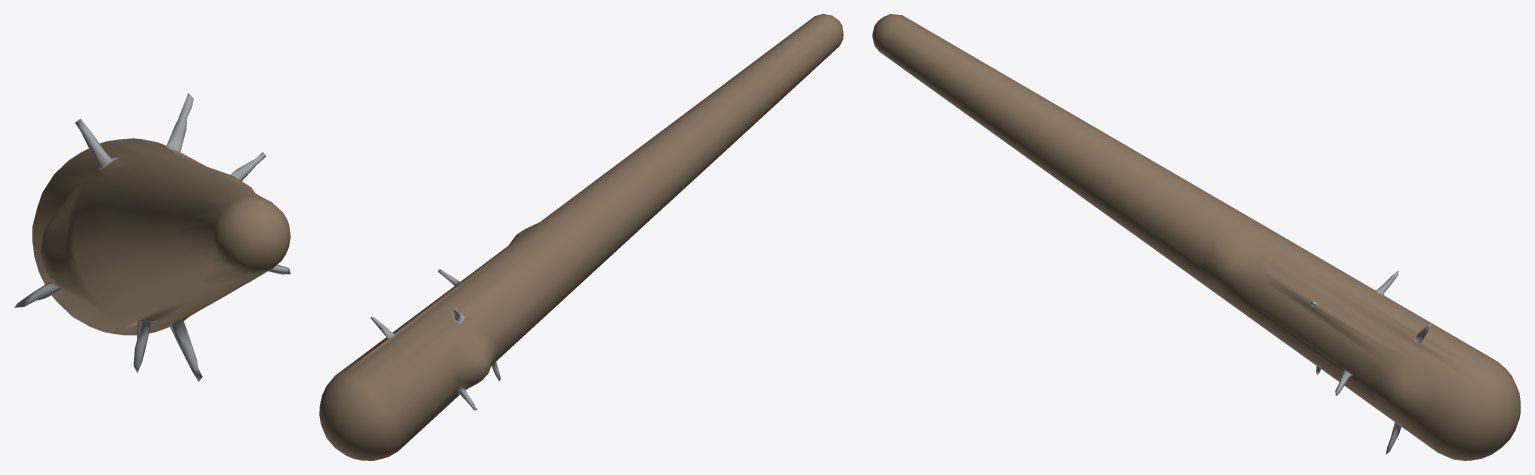
File: ClubStowed.fbx
3 views of the same model, side by side, from view 1: azimuth 30°, elevation 25°; view 2: azimuth 150°, elevation 25°; view 3: azimuth 270°, elevation 25° (orthographic). The views are drawn at different scales.
Parts seen in each view (by area): view 1: ClubStowed; view 2: ClubStowed; view 3: ClubStowed.
Boxes of the visible parts, x1=… form: ClubStowed: x1=14, y1=93, x2=290, y2=381; ClubStowed: x1=319, y1=14, x2=843, y2=460; ClubStowed: x1=872, y1=14, x2=1520, y2=460.
Bounding box in the file's own units: 18.16 × 20.26 × 35.72.
